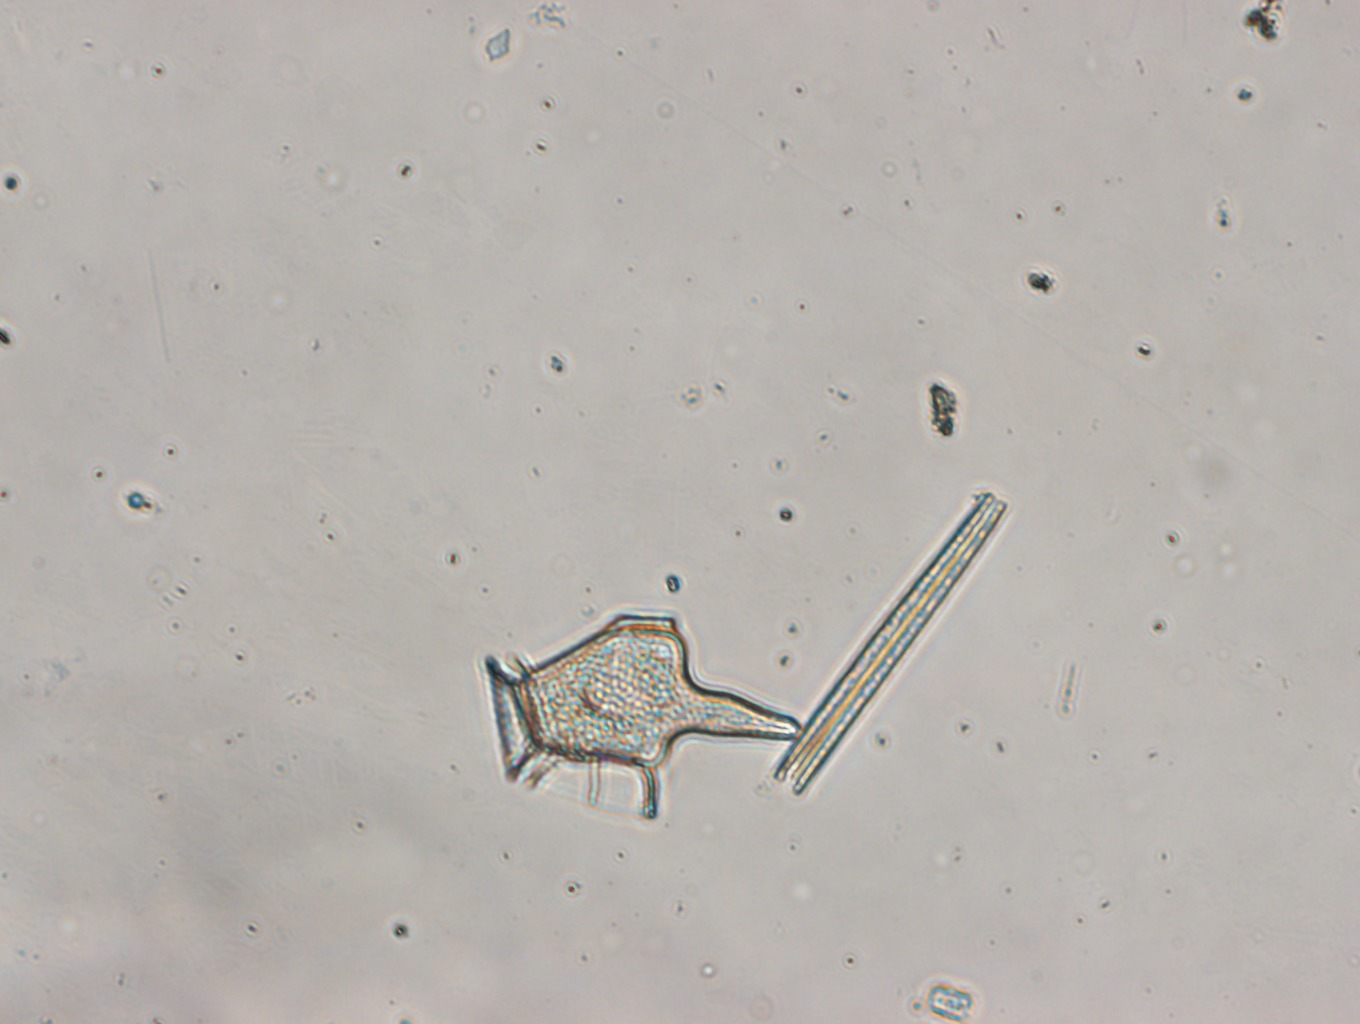dinophysis caudata: (466, 605, 805, 824)
